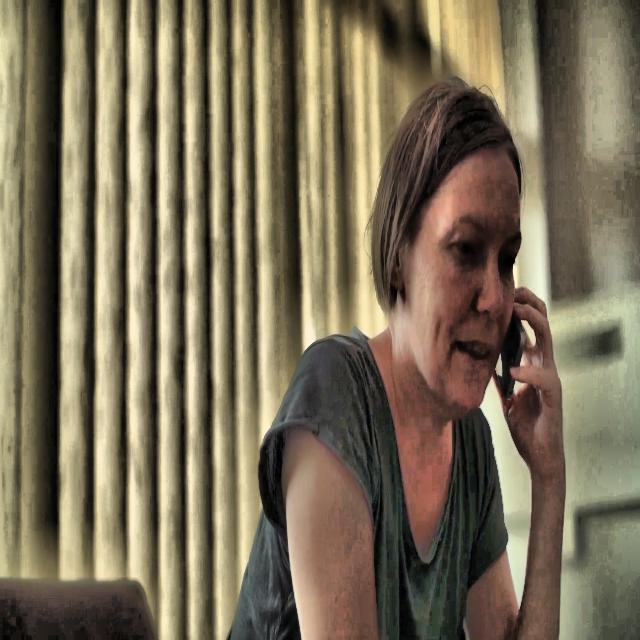Phone: (491, 310, 528, 409)
